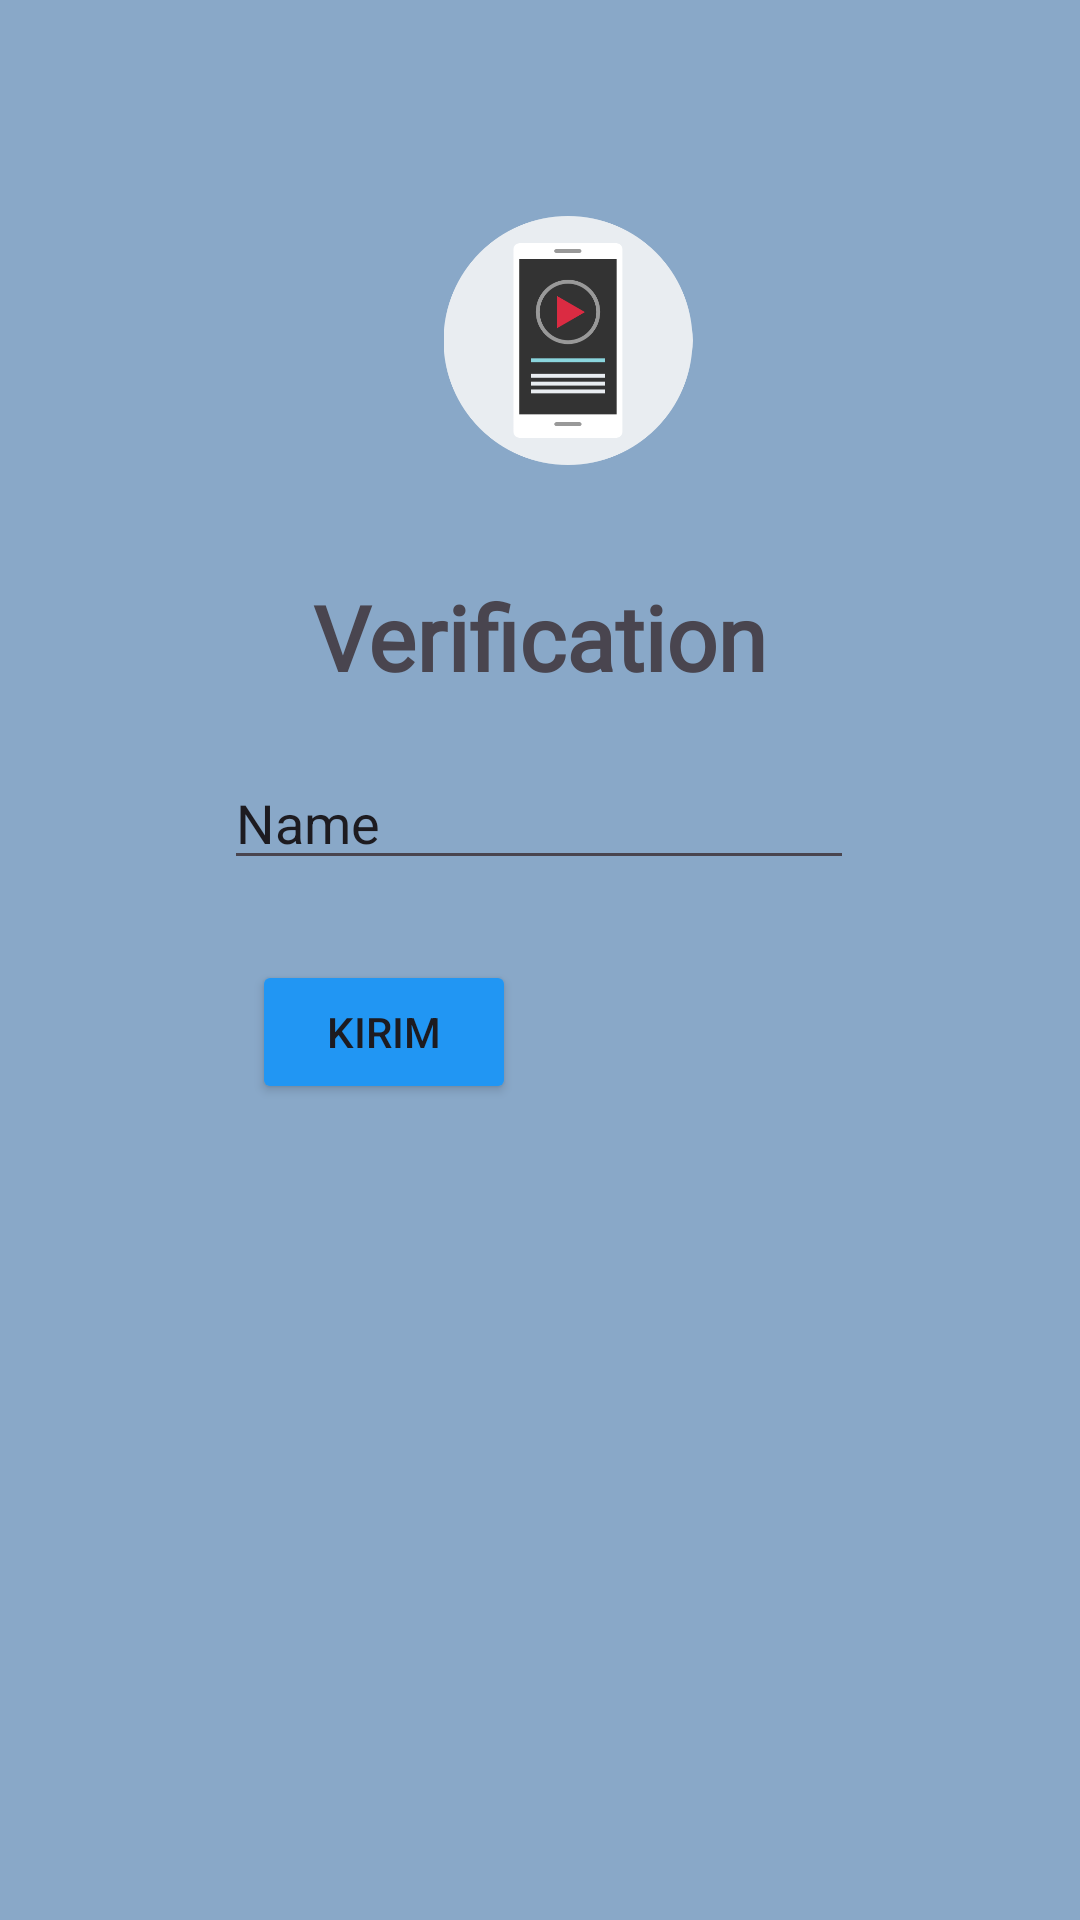

Where icons sit on this 1080 × 1920 app screen, as (x1, y1, x2, y2):
phone: (444, 216, 693, 465)
